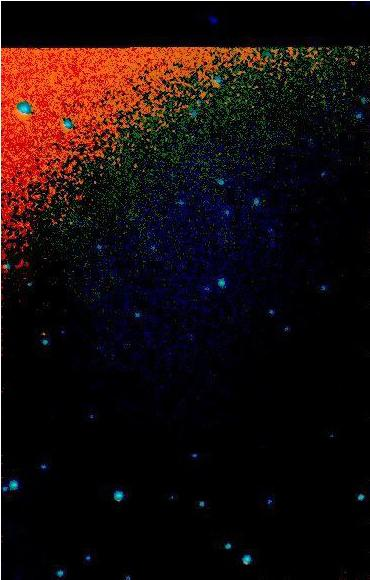star: (29, 317, 59, 347)
